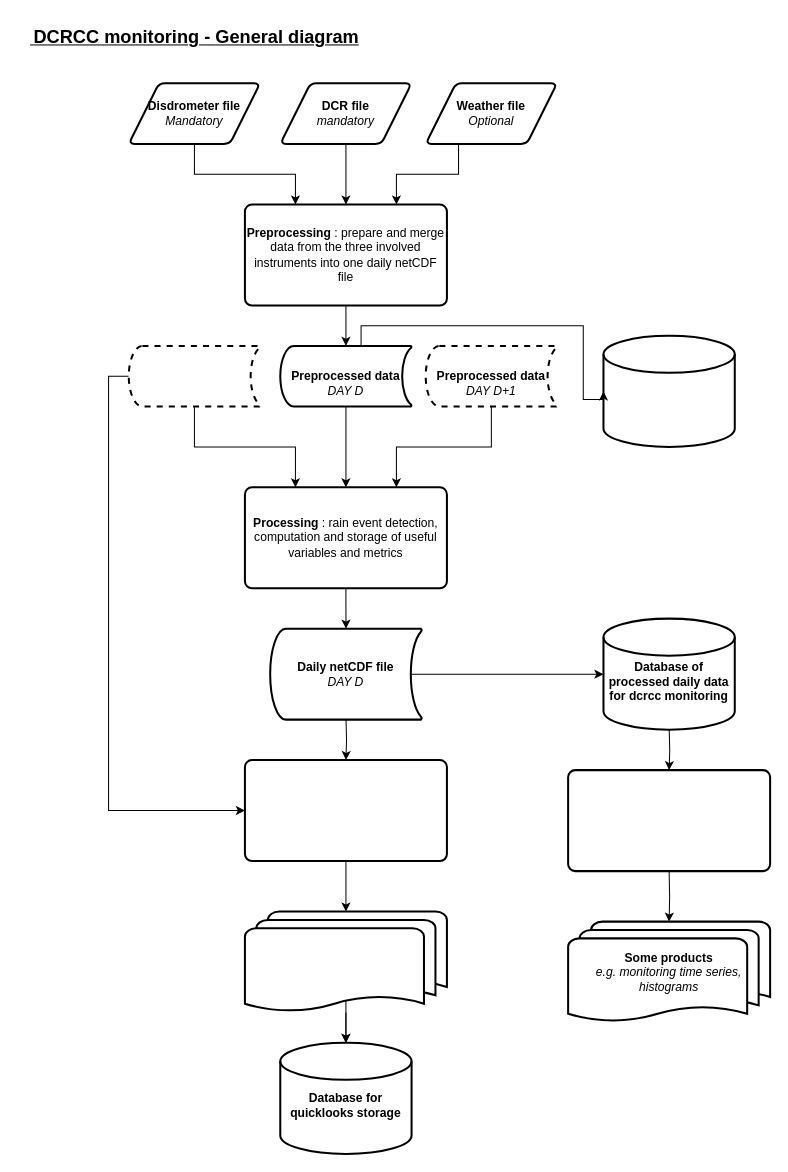
Image size: 788x1172. Some labels were removed from this diagram. The centre of each missing label's shape, as x and y in pixels:
"Database of preprocessed daily data for dcrcc monitoring" belongs at pixel 668 390.
"Preprocessed data DAY D-1" belongs at pixel 194 375.
"Quicklooks, alerts What to return if no event occurs in the day" belongs at pixel 345 961.
"Script for real time analysis , in the case an event is detected" belongs at pixel 345 810.
"Toolbox for long-term monitoring ," belongs at pixel 669 820.
